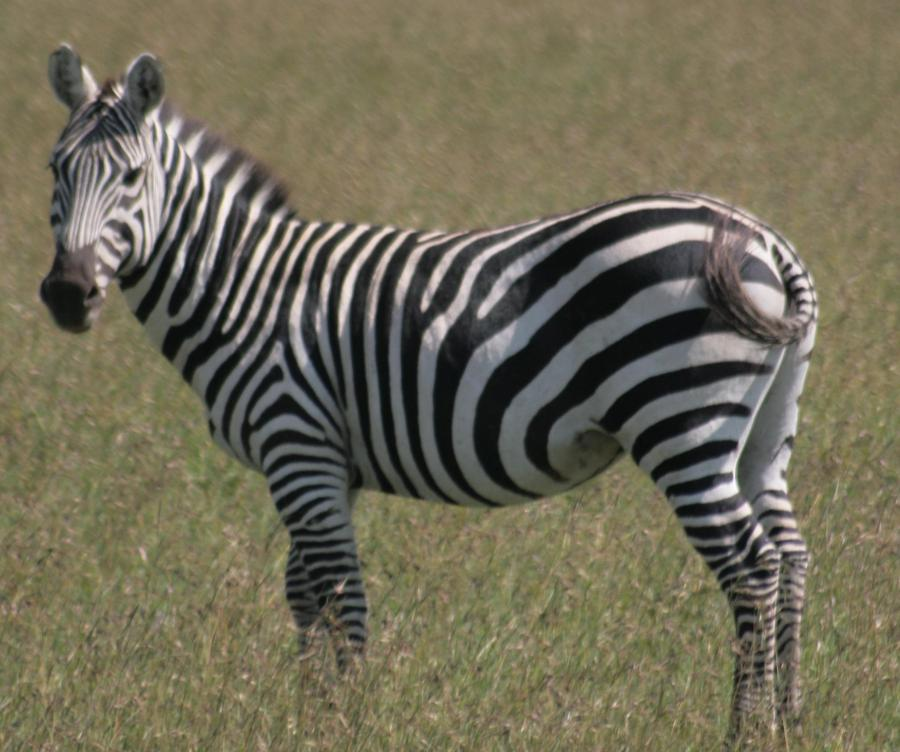zebra_plains: (182, 191, 772, 514)
